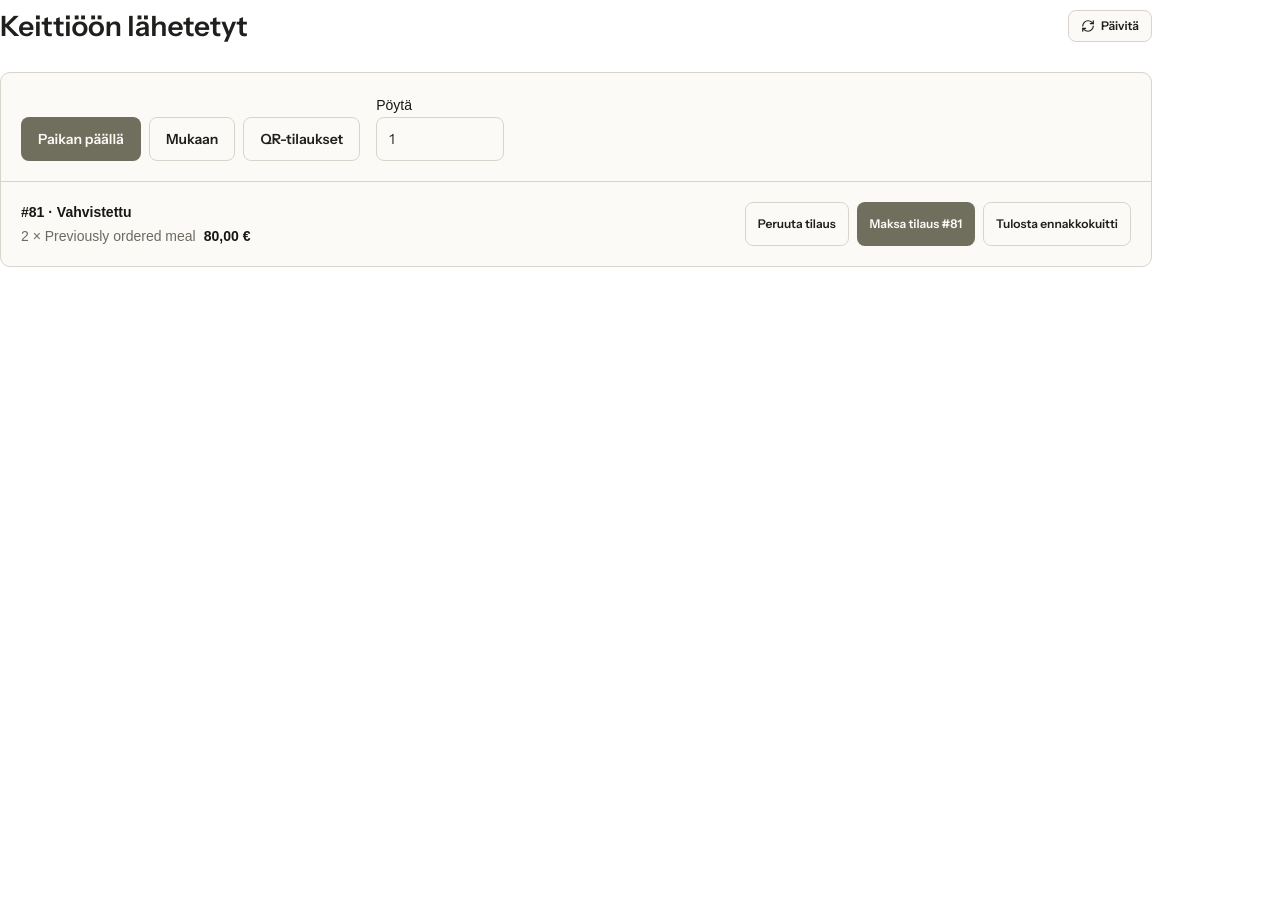
Test case: POS safety net › rechecks a stale cancellation row before showing the reason form
Click the button with aria-label "Peruuta tilaus #81".
click(797, 224)  # box left=745, top=202, right=849, bottom=246
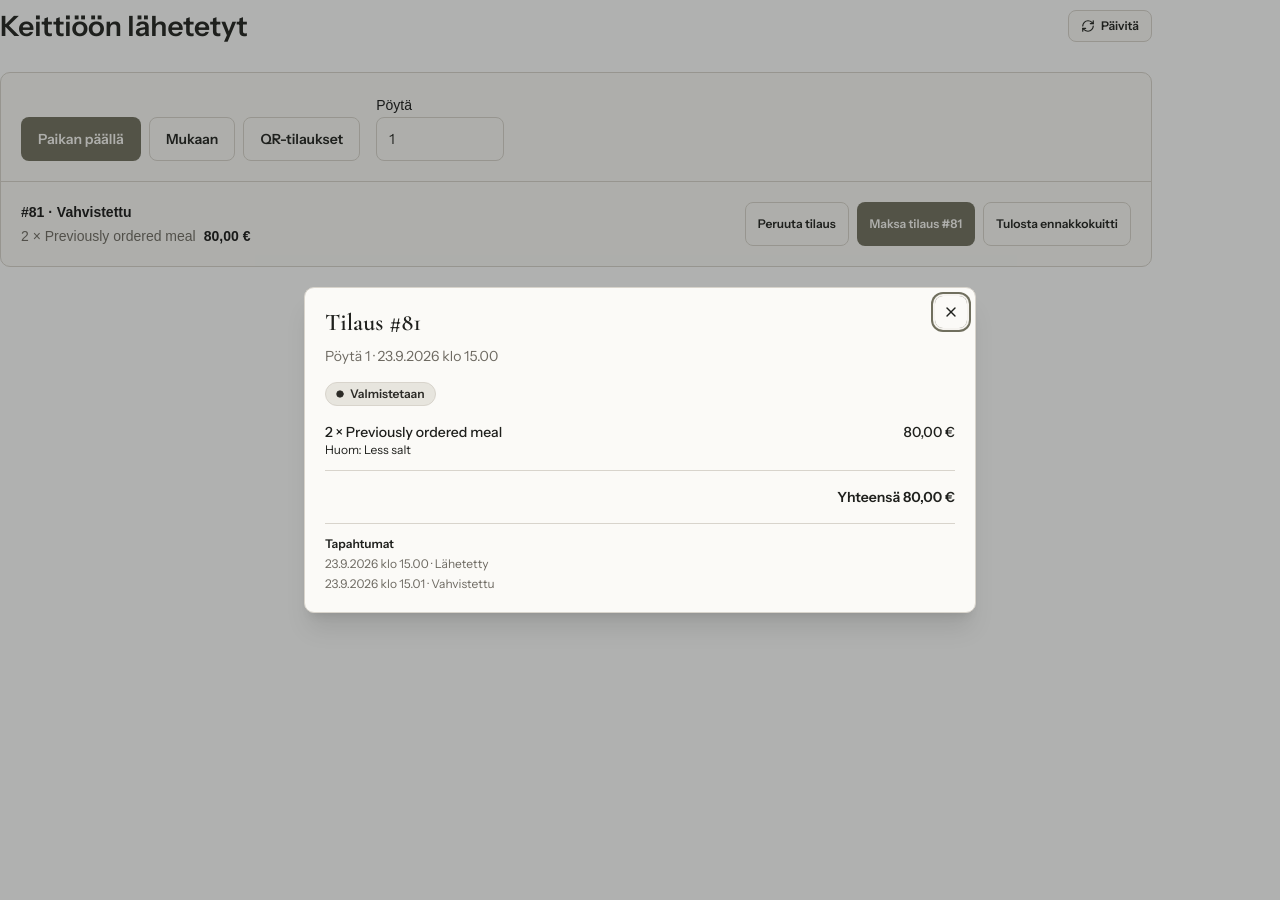
Now the text "Valmistetaan" is shown, box left=325, top=382, right=436, bottom=406
